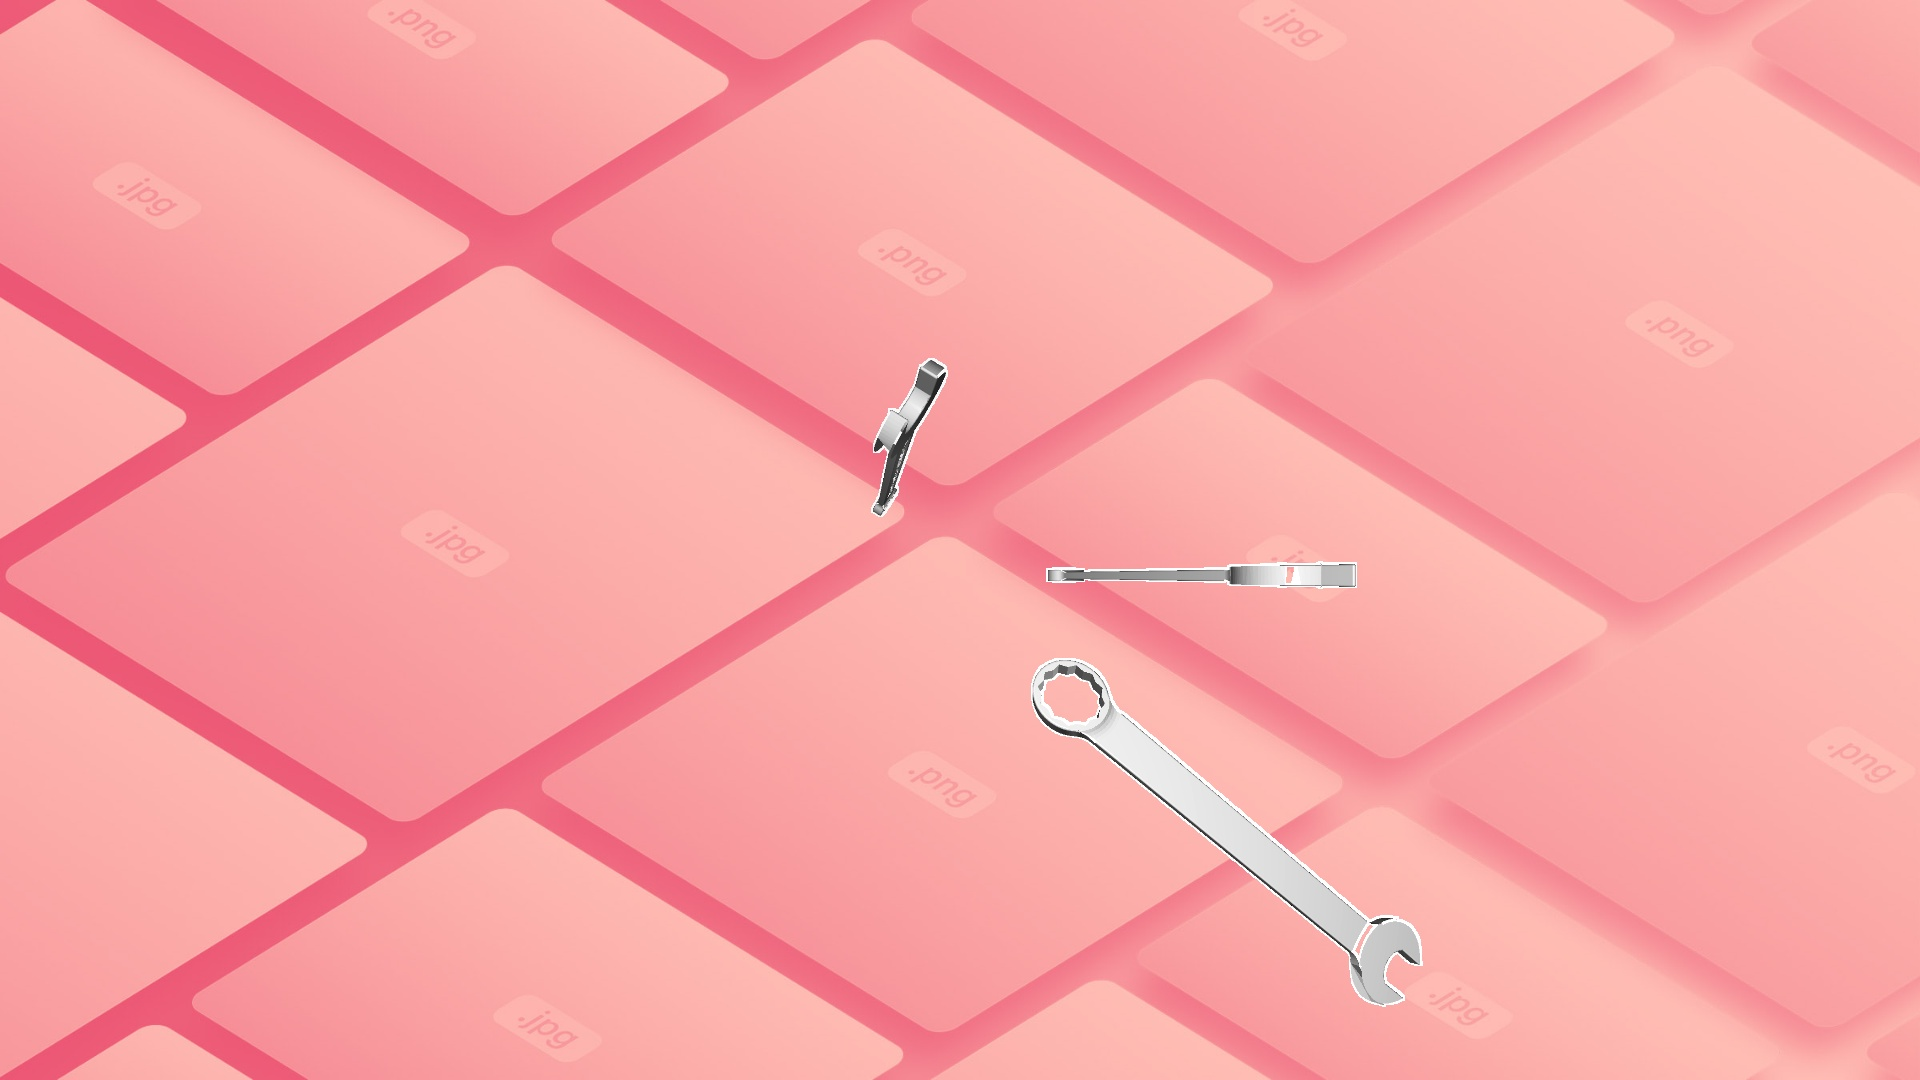Mixed Key: (1031, 658, 1422, 1006), (872, 357, 947, 516), (1046, 560, 1356, 588)
